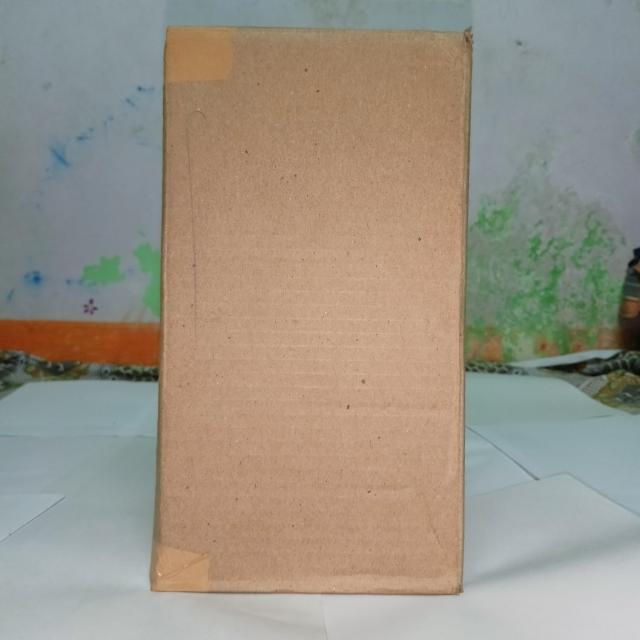box: (150, 27, 475, 600)
